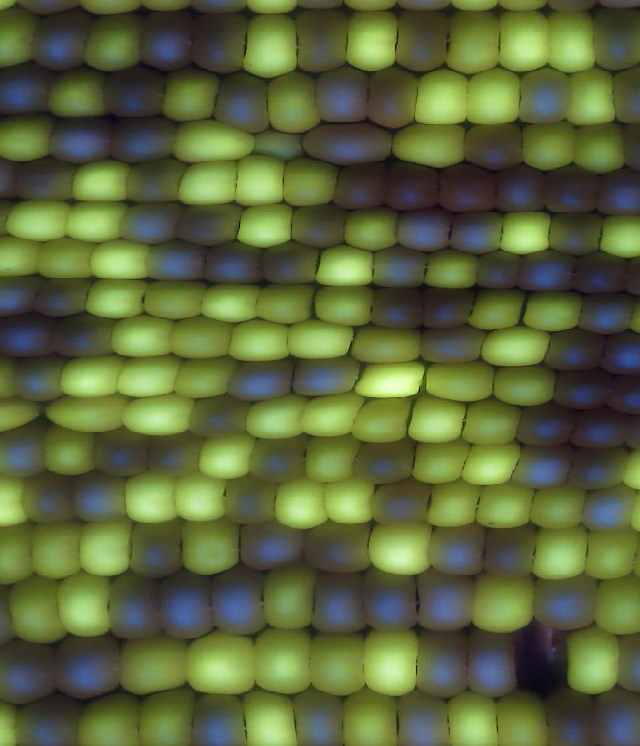fluorescent: (179, 623, 262, 701), (233, 7, 317, 83), (112, 628, 197, 700), (461, 568, 543, 640), (248, 621, 319, 703), (254, 557, 326, 635), (558, 620, 627, 701), (356, 621, 424, 702), (164, 114, 267, 166), (300, 627, 371, 702), (52, 566, 119, 643), (406, 62, 479, 131), (364, 516, 442, 580), (440, 5, 509, 77), (5, 570, 66, 651), (485, 7, 557, 75), (259, 66, 326, 139), (334, 683, 411, 746), (338, 6, 404, 79), (385, 119, 472, 174), (69, 687, 149, 746), (34, 389, 132, 437), (76, 10, 151, 72), (119, 463, 187, 531), (159, 309, 243, 364), (71, 516, 143, 580), (526, 520, 594, 587), (177, 513, 243, 582), (130, 684, 202, 746), (419, 354, 501, 408), (158, 61, 225, 127), (459, 64, 525, 130), (26, 516, 88, 586), (235, 685, 306, 746), (44, 63, 117, 122), (545, 3, 603, 77), (489, 684, 557, 746), (457, 393, 529, 451), (348, 393, 421, 450), (34, 422, 105, 480), (441, 685, 508, 746), (283, 314, 361, 366), (521, 285, 592, 342), (28, 230, 100, 286), (166, 466, 230, 529), (584, 571, 640, 643), (57, 350, 133, 403), (120, 389, 196, 442), (562, 64, 622, 131), (112, 349, 189, 401), (275, 154, 349, 208), (296, 389, 370, 443), (401, 435, 475, 489), (345, 320, 430, 367), (173, 154, 243, 211), (0, 193, 75, 246), (169, 351, 244, 404), (268, 472, 333, 533), (350, 359, 438, 404), (456, 437, 530, 490), (309, 282, 379, 338), (80, 273, 159, 322), (404, 392, 473, 448), (569, 118, 633, 178), (194, 428, 265, 482), (460, 285, 536, 335), (579, 523, 640, 585), (228, 153, 292, 212), (86, 231, 160, 282), (224, 315, 298, 366), (516, 116, 581, 174), (138, 275, 213, 325), (247, 276, 319, 328), (471, 479, 540, 533), (488, 361, 561, 412), (319, 469, 378, 532), (107, 311, 181, 361), (59, 195, 131, 246), (239, 391, 311, 442), (196, 278, 269, 328), (474, 324, 555, 369), (491, 205, 558, 259), (525, 481, 592, 535), (420, 476, 484, 532), (65, 156, 135, 207), (303, 433, 366, 489), (337, 203, 406, 254), (233, 200, 299, 253), (0, 108, 60, 166), (312, 240, 381, 289), (0, 519, 47, 590), (417, 243, 483, 292), (0, 4, 45, 72), (0, 228, 53, 283), (591, 208, 640, 264), (242, 125, 309, 163), (0, 468, 38, 533), (0, 388, 47, 436)
nonfluorescent: (205, 558, 271, 644), (99, 566, 169, 646), (528, 566, 603, 640), (155, 568, 224, 648), (459, 626, 528, 706), (50, 628, 124, 702), (409, 624, 475, 705), (354, 563, 424, 639), (305, 567, 376, 641), (130, 5, 201, 78), (300, 117, 398, 169), (205, 68, 275, 140), (285, 5, 355, 76), (384, 5, 453, 77), (235, 515, 314, 577), (302, 517, 375, 583), (538, 678, 608, 746), (359, 64, 427, 133), (412, 567, 481, 635), (187, 6, 250, 79), (0, 635, 63, 708), (24, 7, 91, 75), (98, 62, 171, 124), (309, 63, 377, 129), (430, 158, 504, 218), (43, 306, 122, 362), (184, 685, 256, 746), (422, 520, 490, 584), (12, 689, 88, 746), (535, 160, 607, 220), (388, 687, 461, 746), (455, 119, 530, 176), (12, 469, 82, 530), (324, 157, 395, 217), (125, 517, 190, 582), (108, 113, 184, 168), (286, 684, 353, 746), (380, 156, 448, 217), (480, 522, 541, 590), (174, 197, 249, 252), (486, 161, 558, 217), (511, 398, 585, 452), (514, 65, 576, 129), (67, 468, 133, 528), (112, 198, 188, 250), (286, 352, 368, 400), (587, 2, 640, 76), (139, 236, 213, 289), (45, 111, 115, 167), (564, 442, 636, 496), (350, 437, 426, 488), (91, 425, 156, 484), (218, 471, 283, 530), (221, 357, 299, 406), (245, 433, 312, 490), (0, 60, 61, 122), (9, 153, 77, 208), (365, 240, 433, 295), (199, 240, 272, 291), (507, 440, 577, 493), (517, 244, 585, 298), (364, 478, 437, 528), (568, 245, 633, 301), (586, 679, 640, 746), (573, 288, 640, 341), (258, 236, 326, 288), (417, 320, 489, 369), (284, 199, 349, 253), (543, 324, 608, 378), (0, 422, 56, 484), (121, 154, 189, 205), (144, 429, 207, 484), (543, 207, 607, 261), (391, 205, 455, 258), (576, 484, 640, 537), (445, 208, 511, 259), (362, 281, 428, 332), (29, 271, 96, 321), (417, 282, 482, 333), (183, 392, 252, 440), (9, 352, 67, 409), (570, 404, 636, 454), (547, 364, 611, 415), (0, 310, 58, 362), (469, 246, 526, 294), (594, 163, 640, 222), (0, 272, 50, 321), (598, 328, 640, 380), (609, 62, 640, 131), (604, 368, 640, 421)
